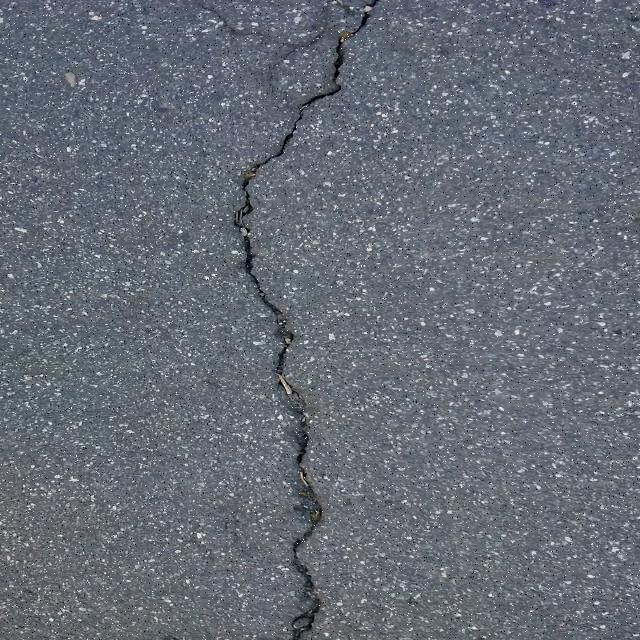Crack: (235, 0, 382, 640), (199, 2, 349, 94)
